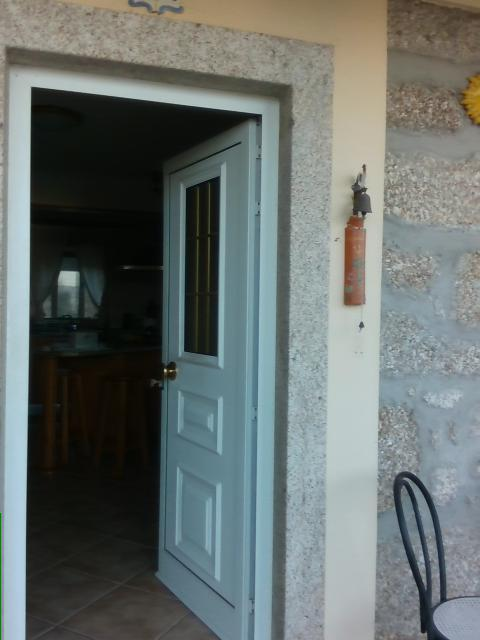door: (156, 117, 258, 640)
